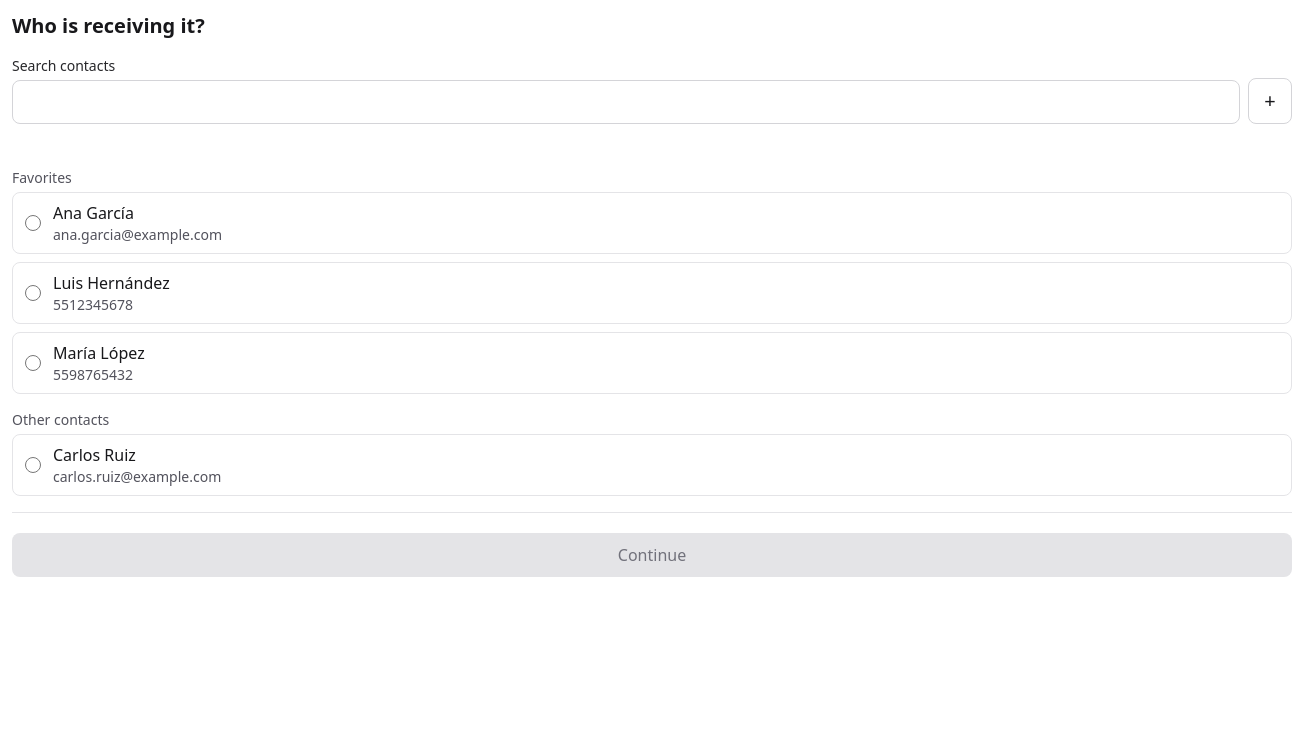
Test case: RecipientStep › selection › selects a contact and stores its name as the recipient
The width and height of the screenshot is (1304, 732).
Click the radio button labelled "Ana García ana.garcia@example.com": (33, 223) left=25, top=215, right=41, bottom=231
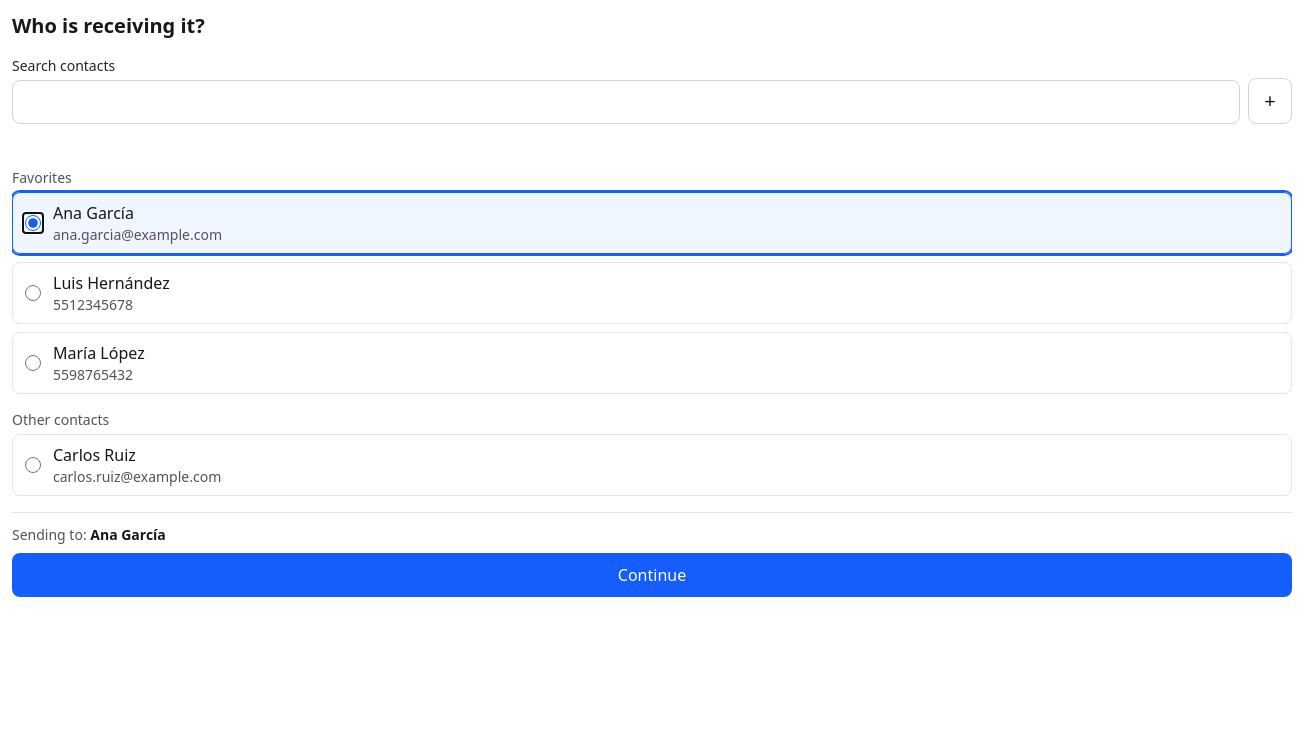
Expected: the text "Ana García" below "Favorites" is shown, left=53, top=202, right=134, bottom=224
Expected: the radio button labelled "Ana García ana.garcia@example.com" is checked, left=25, top=215, right=41, bottom=231
Expected: the text "Sending to: Ana García" is shown, left=12, top=525, right=166, bottom=544
